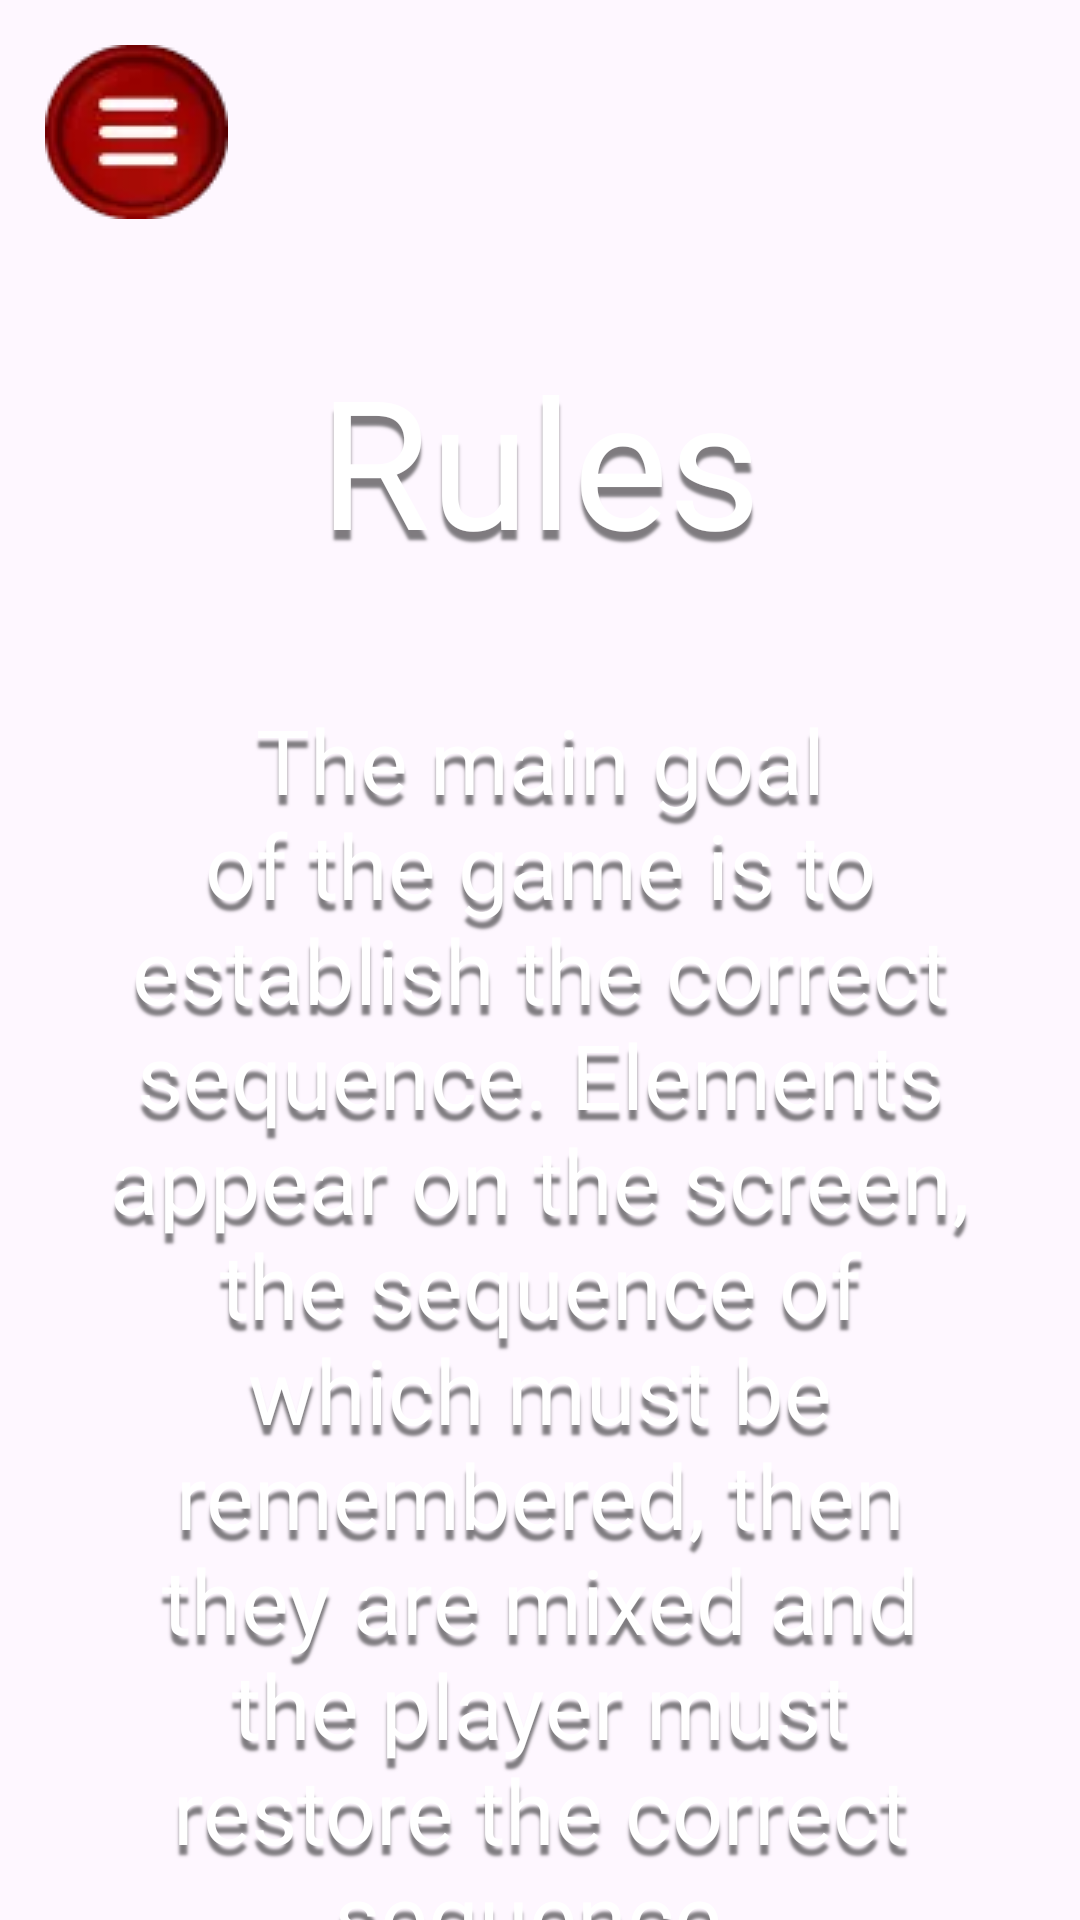

Named icons in this screenshot (1080px×1920px) and their bounding boxes, (x1=x1, y1=y1, x2=x2, y2=y2):
chose lvl: (x1=45, y1=45, x2=228, y2=219)
